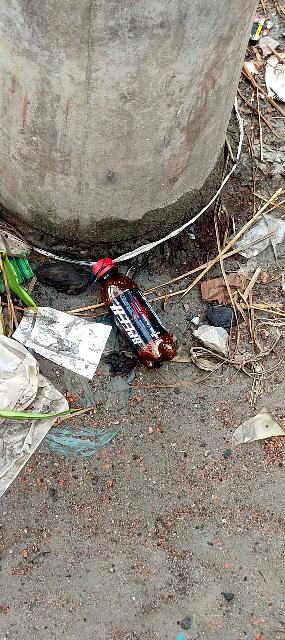bottle: (78, 248, 187, 370)
